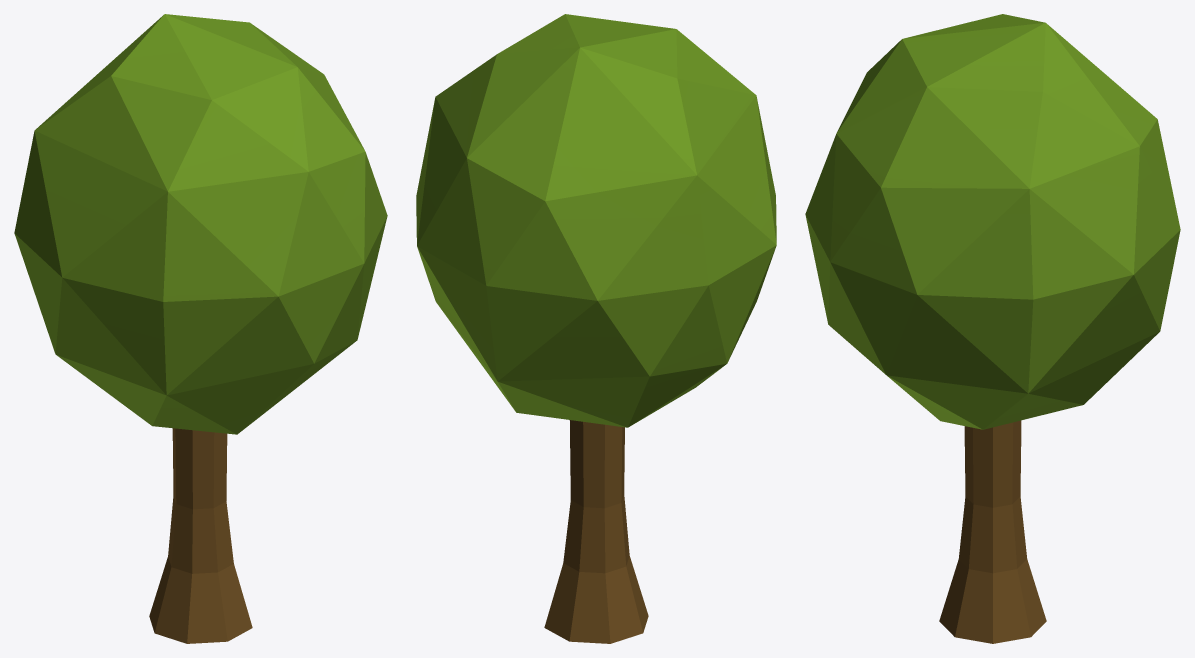
Rendered from oak_large.fbx.
The picture shows the model from 3 angles, left to right: view 1: azimuth 30°, elevation 25°; view 2: azimuth 150°, elevation 25°; view 3: azimuth 270°, elevation 25°; orthographic projection.
Parts seen in each view (by area): view 1: oak_large; view 2: oak_large; view 3: oak_large.
Part boxes in pixels (box(x1,y1,x2,y2)): oak_large: box(14, 14, 387, 643); oak_large: box(416, 14, 776, 643); oak_large: box(805, 14, 1180, 643).
Size of the model in its own units: 4.49 by 8 by 4.58.
